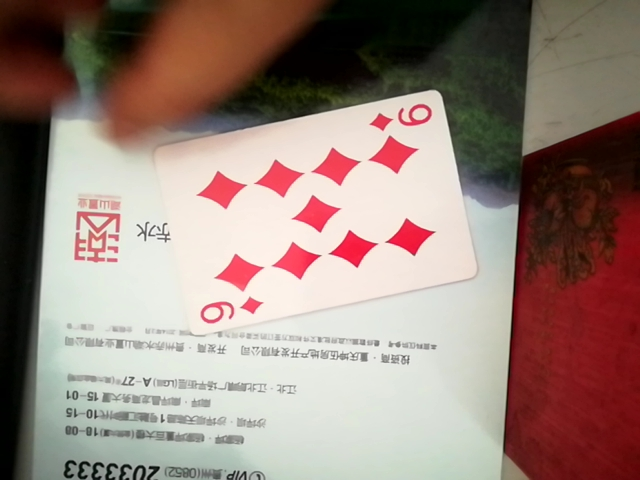fk 9: (158, 85, 472, 342)
